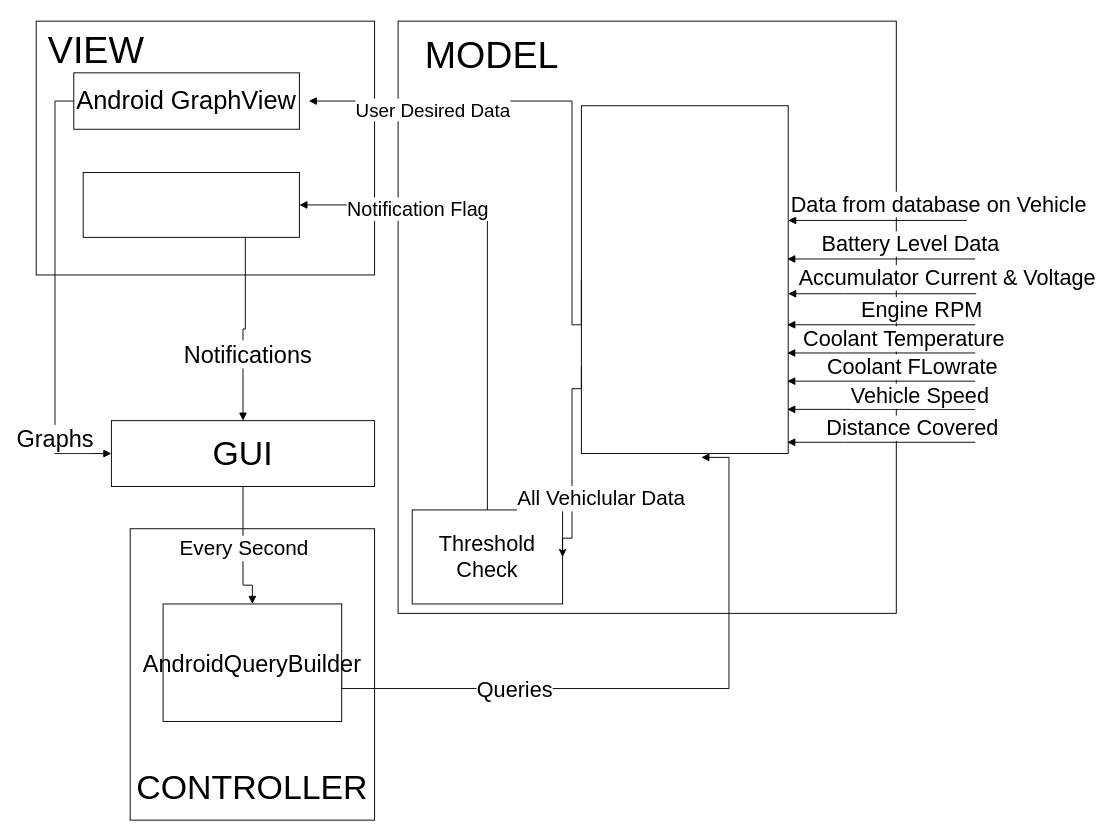
Some shapes in this 1111 by 837 pixel diagram are drawn without their labels. The shapes that lost their labels are listed below. From the top down, each one's box as (x1, y1, x2, y2) in pixels, then its label:
(82, 172, 299, 237): Android Notification Manager
(580, 105, 788, 454): Database Handler
